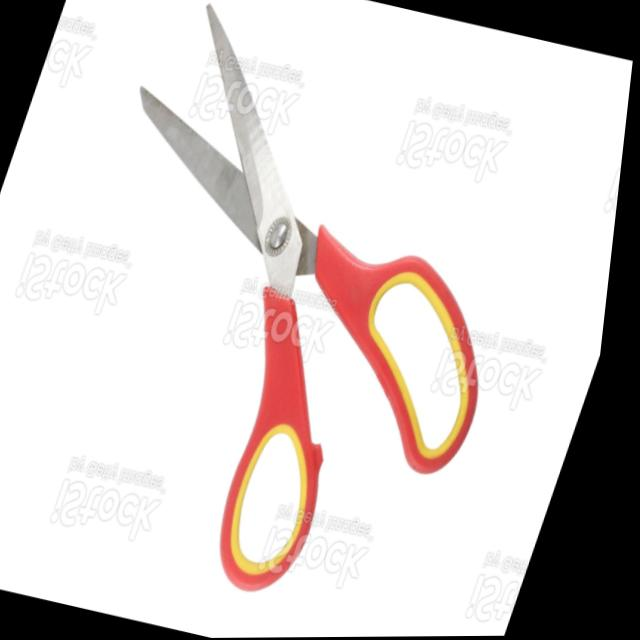scissor: (0, 0, 603, 640)
